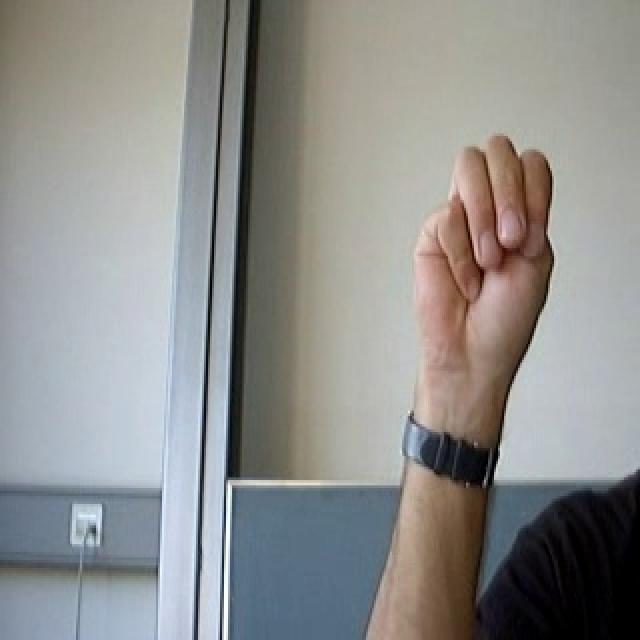M: (397, 127, 575, 388)
